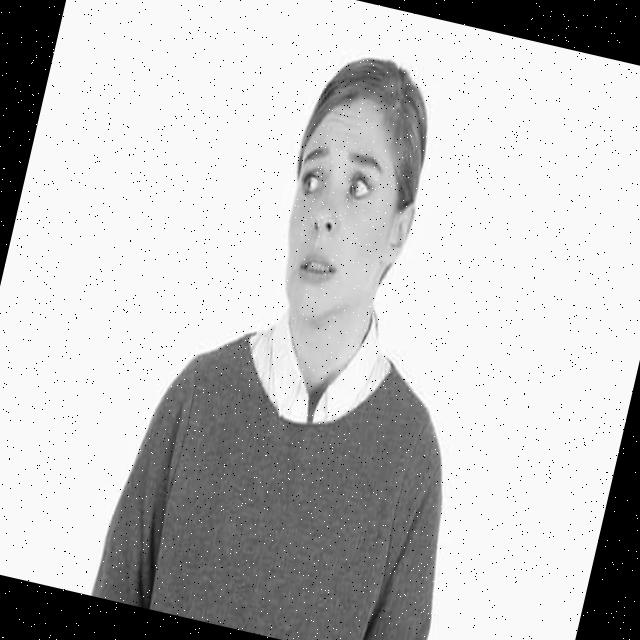Fear: (263, 94, 414, 334)
